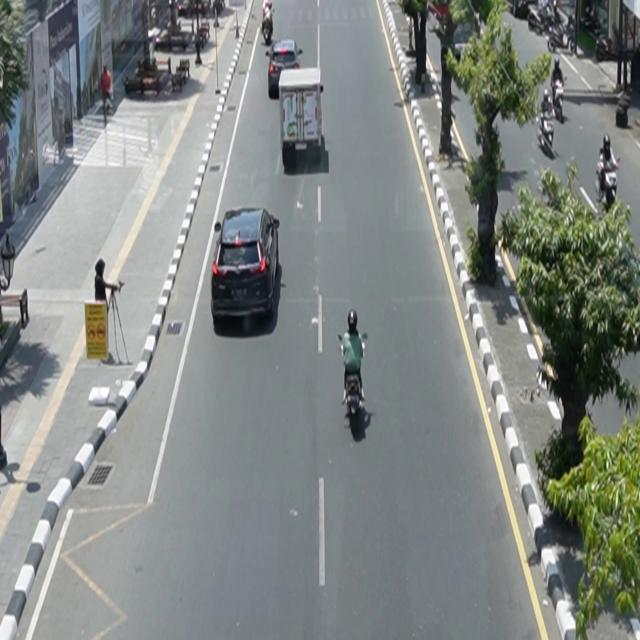car: (211, 207, 281, 324)
truck: (279, 67, 325, 167)
